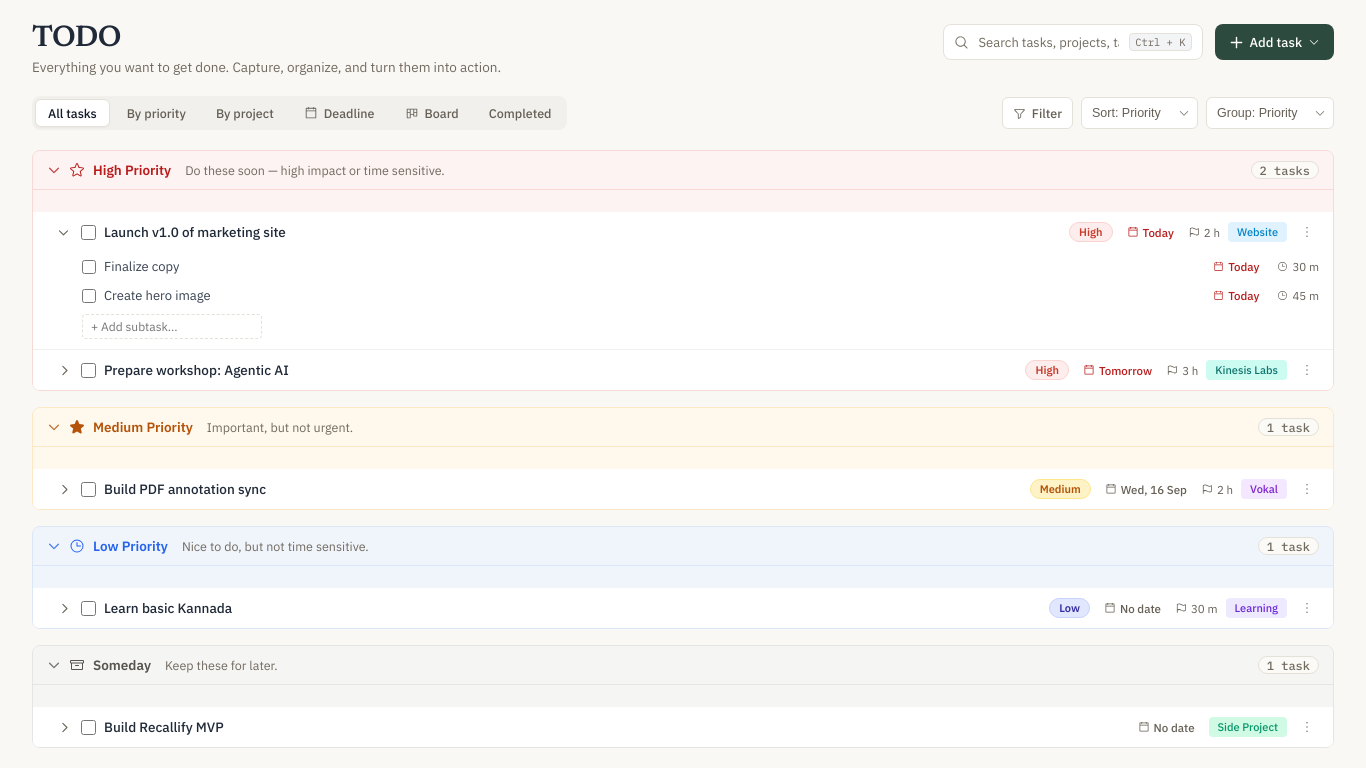
TodoView render flows › closes task options menu when clicking outside
The image size is (1366, 768).
Click the 1st button named "Task options": (1307, 232) [1295,220,1319,244]
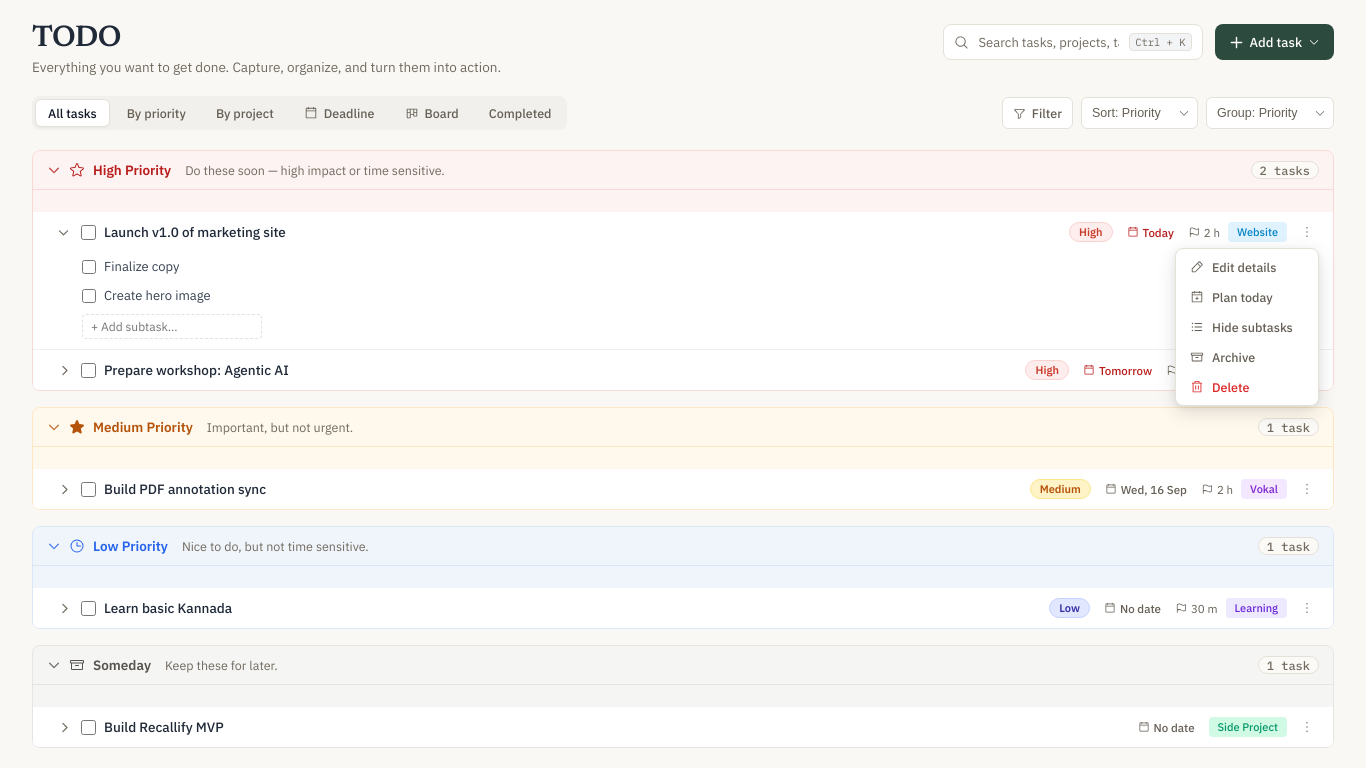
expect the text "Edit details" is shown: met, box [1212,259,1276,275]
Click outside on body
Press the mouse on the element that starts with "TODO": (683, 384) [0,0,1365,767]
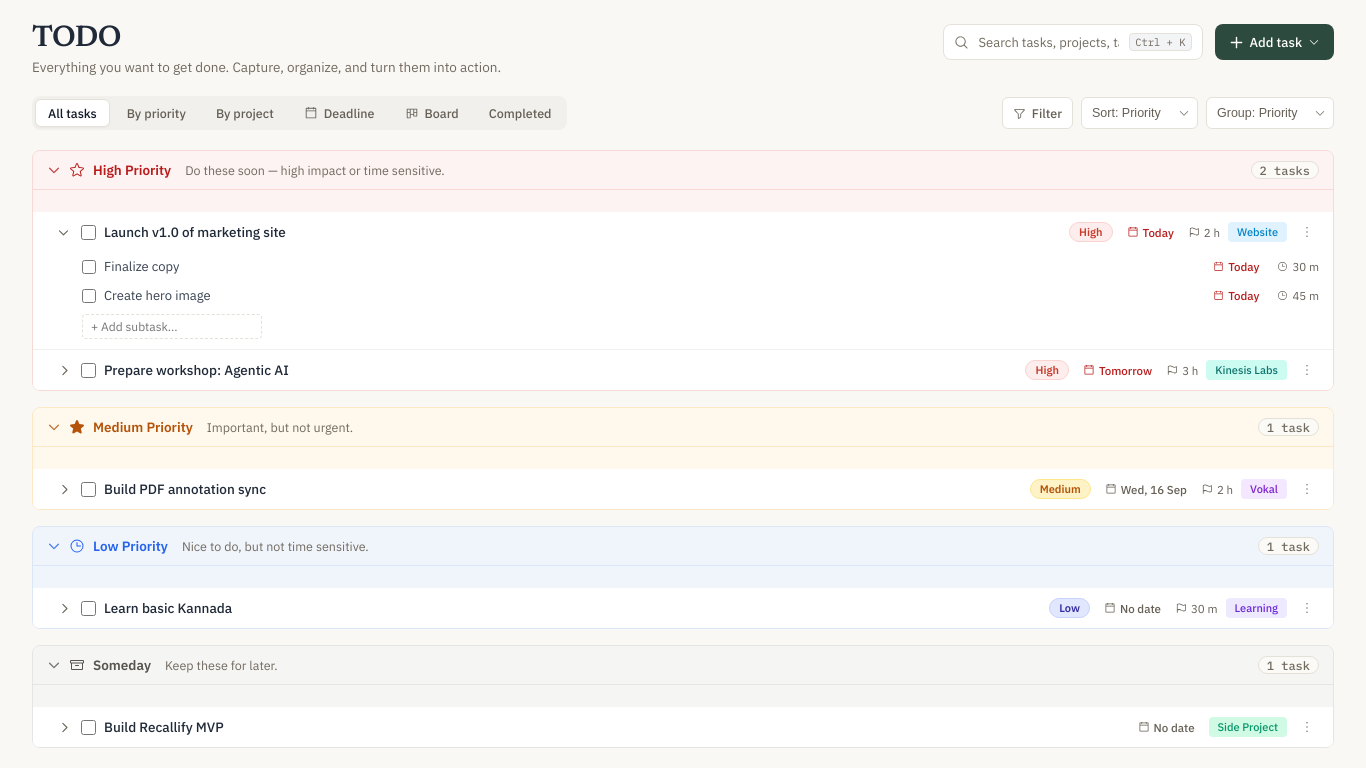
expect the menu item "Edit details" is gone: met
